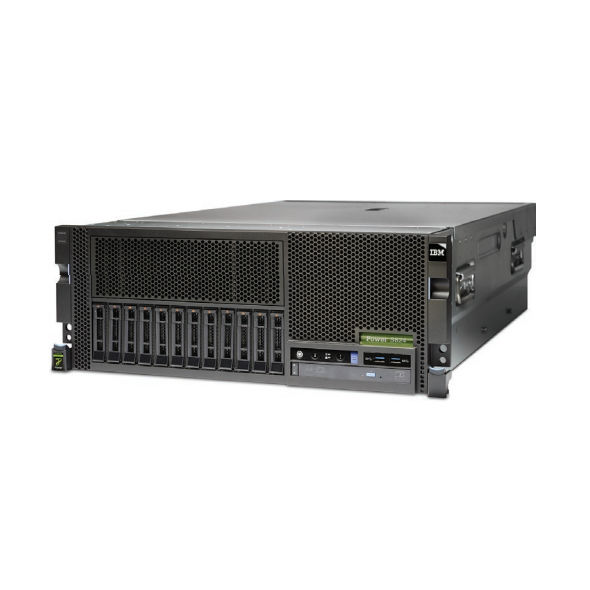ibm-server: (46, 195, 540, 409)
